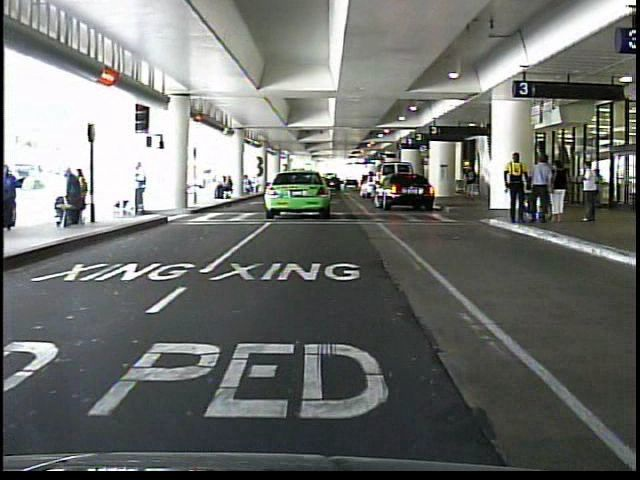person: (498, 150, 530, 230), (574, 155, 604, 227), (4, 164, 37, 229), (121, 158, 153, 224), (527, 149, 551, 227), (549, 158, 566, 227), (461, 159, 482, 204)
